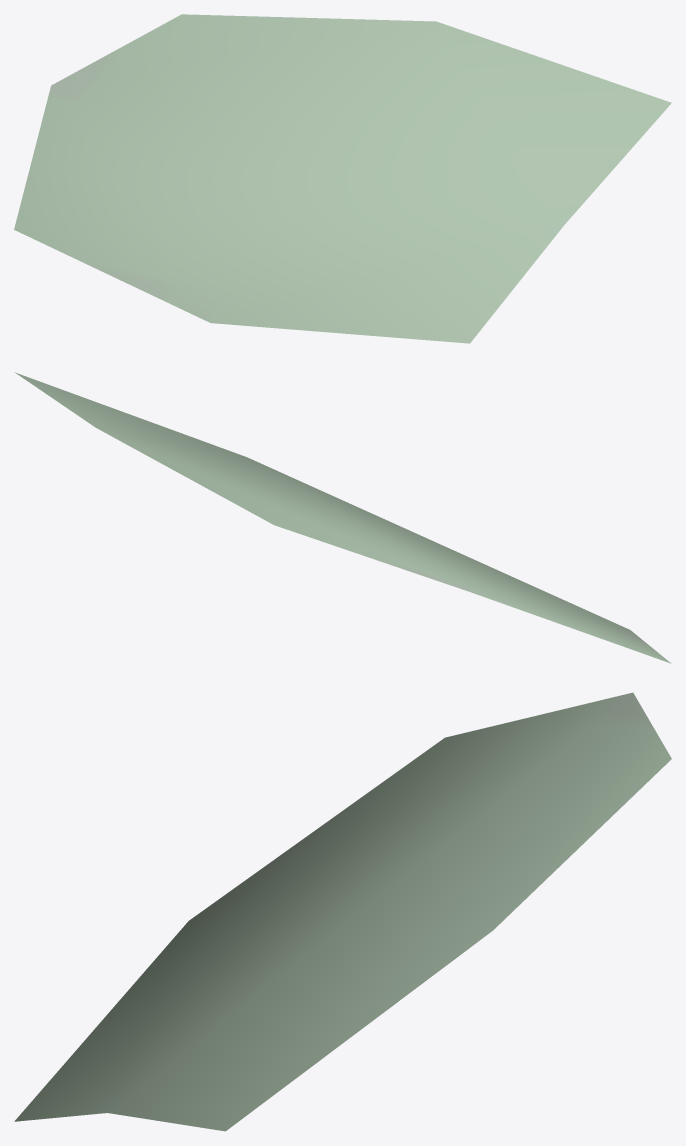
File: TROLLHOLE02_HOLECAP158.fbx
3 renders of one model, top to bottom at view 1: azimuth 30°, elevation 25°; view 2: azimuth 150°, elevation 25°; view 3: azimuth 270°, elevation 25°, orthographic. The views are drawn at different scales.
Parts seen in each view (by area): view 1: TROLLHOLE02_HOLECAP158; view 2: TROLLHOLE02_HOLECAP158; view 3: TROLLHOLE02_HOLECAP158.
Boxes of the visible parts, bbox=[...] form: TROLLHOLE02_HOLECAP158: bbox=[14, 14, 671, 343]; TROLLHOLE02_HOLECAP158: bbox=[15, 372, 671, 663]; TROLLHOLE02_HOLECAP158: bbox=[14, 692, 671, 1131].
Size of the model in its own units: 43873 by 13851 by 27214.
Materials: 1 (1 with a texture image).
